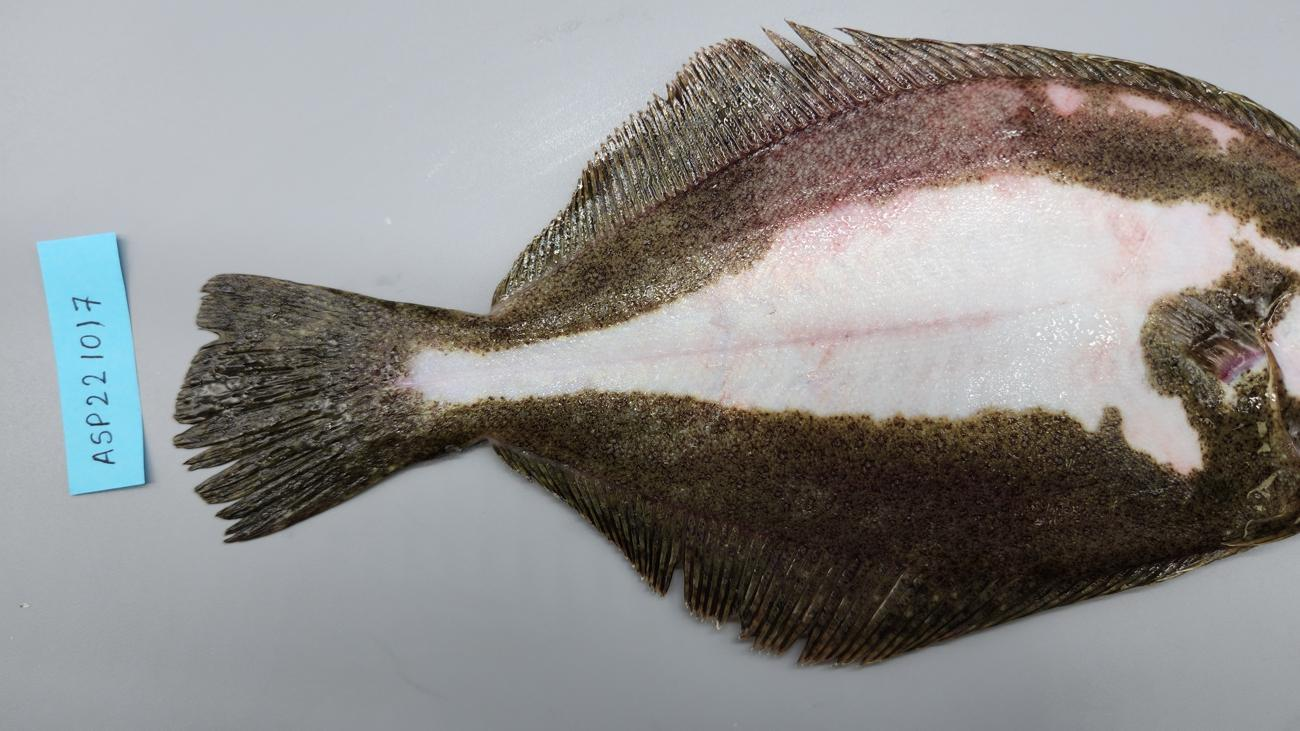SPDYH: (444, 407, 1245, 576), (344, 311, 421, 435)
SPFCH: (180, 274, 339, 388)
